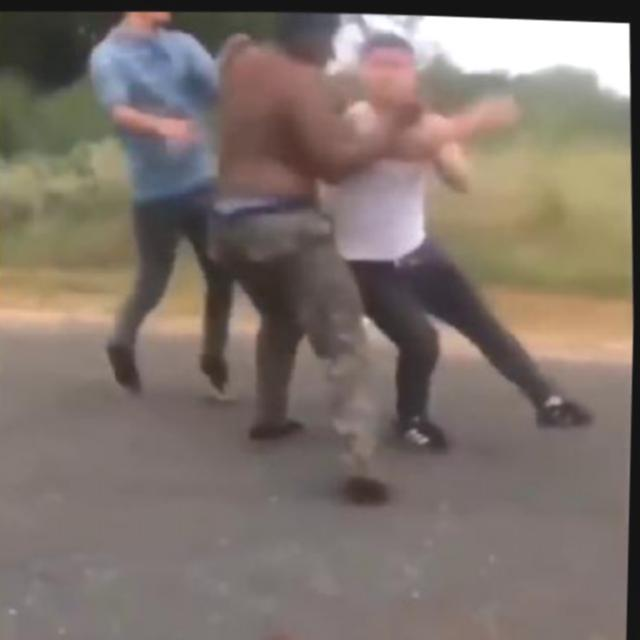fight: (196, 6, 523, 496)
